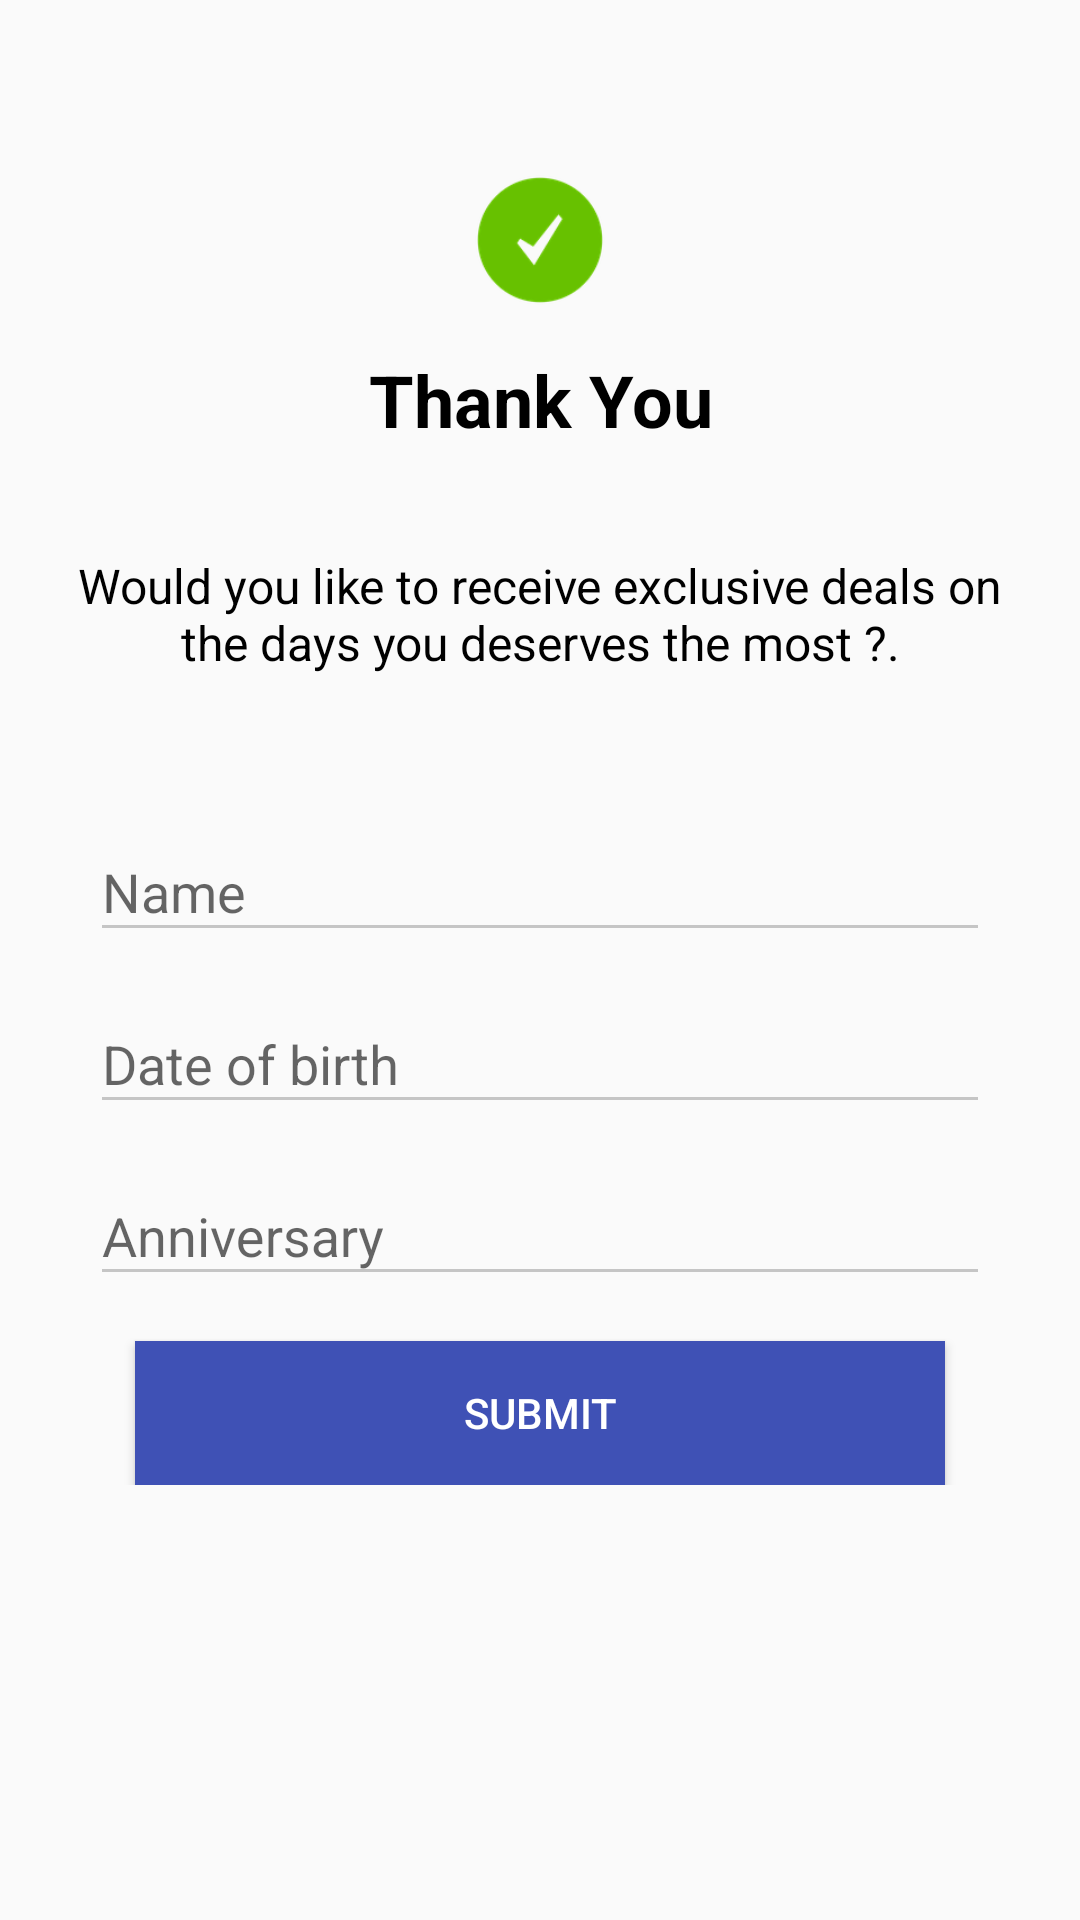

Screen size 1080x1920. Icon name, then its center in pixels as point (x, y):
done: point (540, 240)
